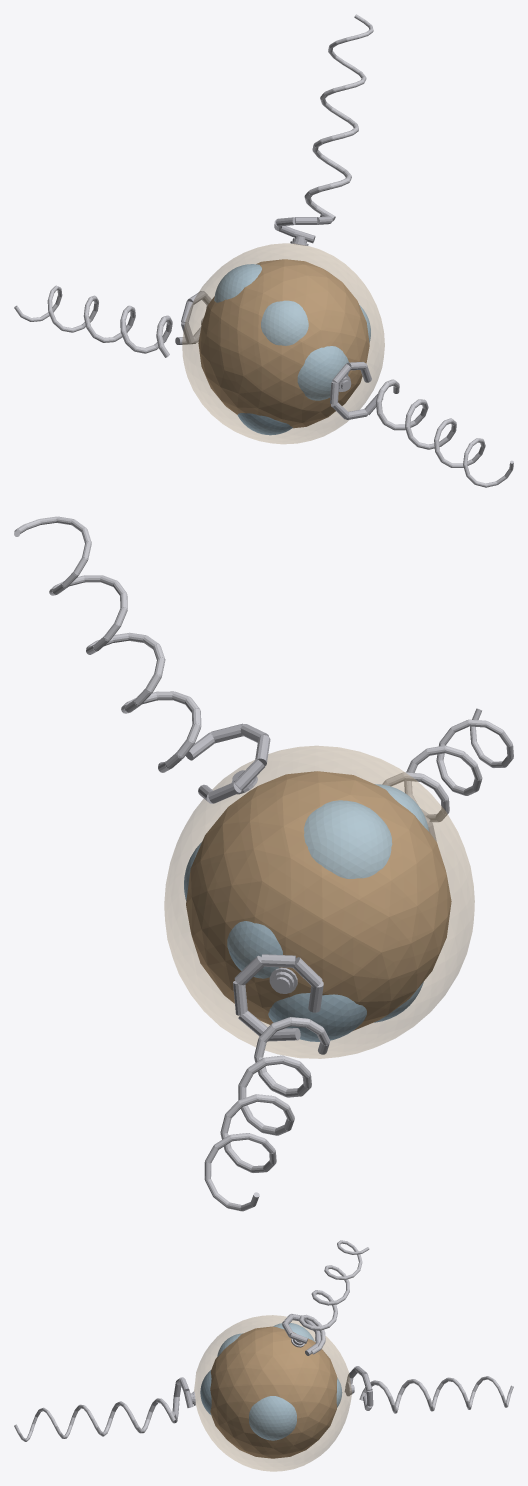
Rendered from bacteria_bacteria_ficticia_beta_8280297.glb.
3 views of the same model, one above another, from view 1: azimuth 30°, elevation 25°; view 2: azimuth 150°, elevation 25°; view 3: azimuth 270°, elevation 25° (orthographic). The views are drawn at different scales.
Visible parts, largest first — view 1: geometry_0, geometry_1, geometry_292, geometry_293, geometry_296, geometry_294; view 2: geometry_0, geometry_1, geometry_296, geometry_297, geometry_298; view 3: geometry_0, geometry_1, geometry_295, geometry_292.
Boxes of the visible parts, x1,y1,x2,y2 form: geometry_0: (182, 243, 384, 443); geometry_1: (198, 259, 369, 428); geometry_292: (297, 346, 348, 400); geometry_293: (261, 300, 308, 345); geometry_296: (214, 264, 261, 302); geometry_294: (237, 413, 292, 435); geometry_0: (164, 746, 474, 1058); geometry_1: (186, 771, 451, 1031); geometry_296: (304, 800, 392, 878); geometry_297: (268, 993, 366, 1041); geometry_298: (227, 921, 282, 978); geometry_0: (194, 1315, 351, 1471); geometry_1: (210, 1326, 337, 1458); geometry_295: (249, 1396, 296, 1440); geometry_292: (200, 1370, 211, 1415).
Size of the model in its own units: 7.66 by 9.85 by 16.72.
